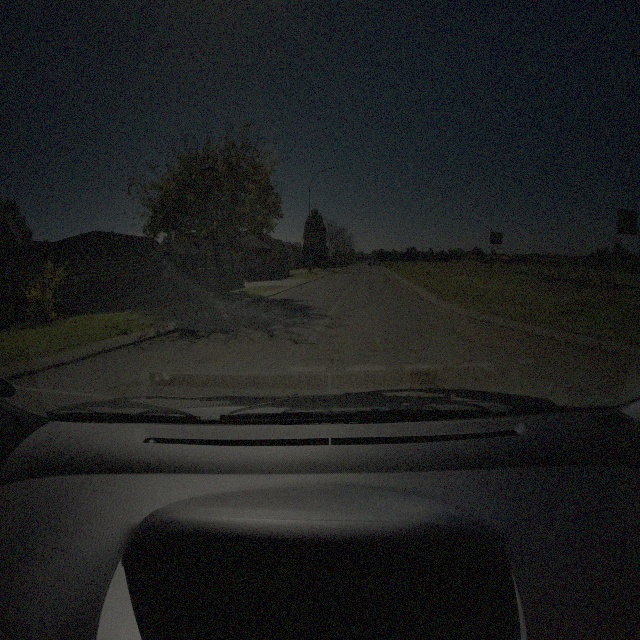pothole: (408, 368, 440, 390), (326, 322, 348, 331), (197, 356, 209, 366)
